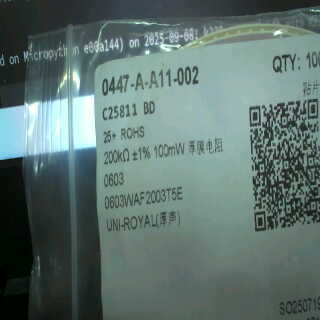200kR: (103, 146, 132, 167)
